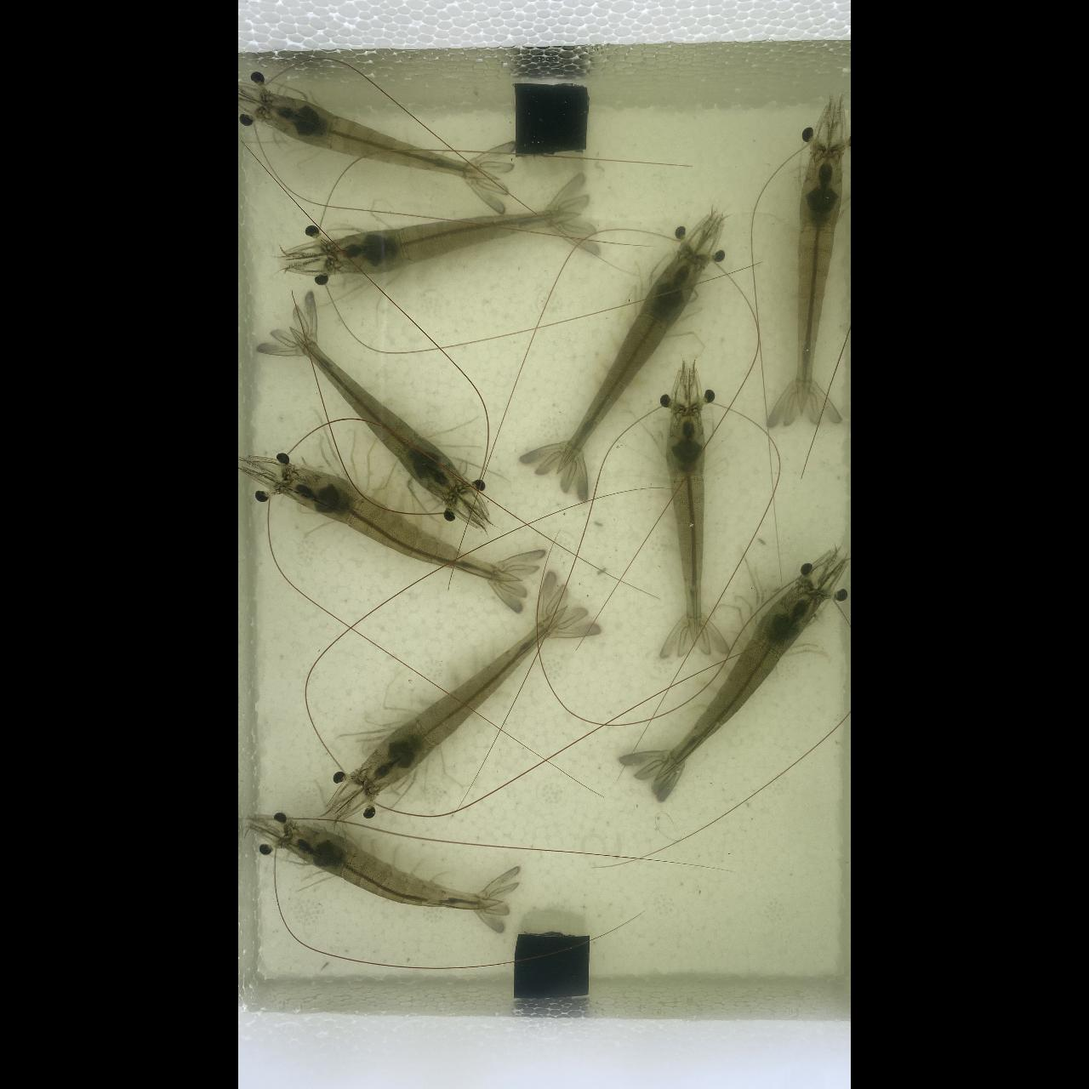box: (515, 81, 589, 155), (514, 932, 589, 999)
top_shrimp: (357, 607, 566, 795), (556, 251, 703, 474), (654, 584, 819, 781), (289, 326, 464, 502), (285, 468, 520, 581), (259, 95, 498, 178), (285, 826, 499, 908), (327, 210, 583, 274), (797, 146, 844, 415), (666, 408, 705, 650)
